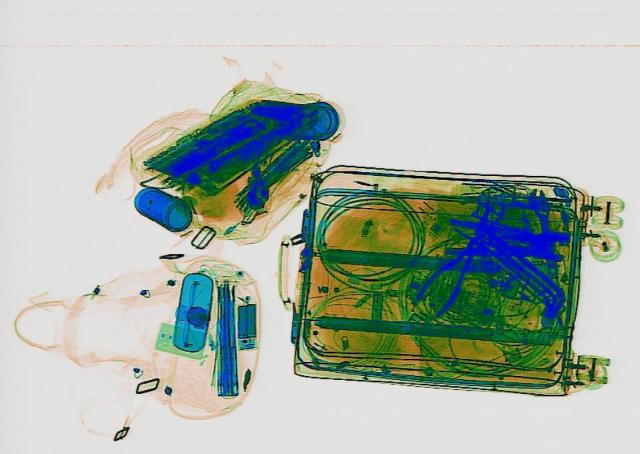Pliers: (404, 229, 496, 320), (438, 216, 572, 264)
Wrench: (523, 188, 561, 274)
